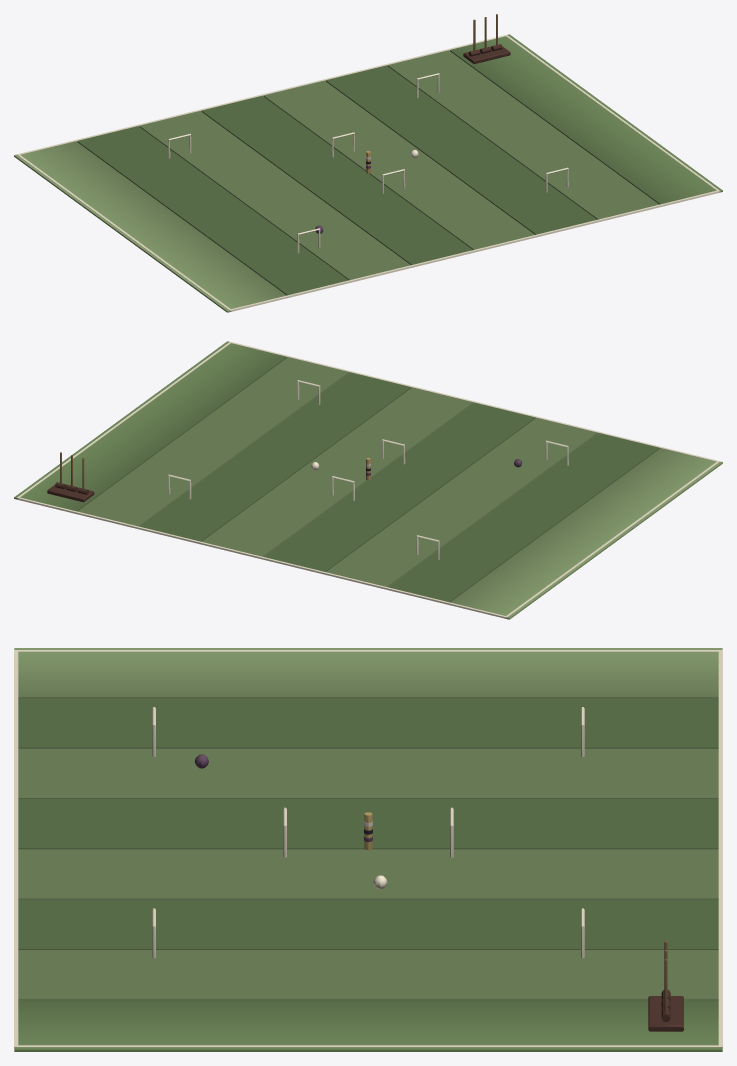
Rendered from lawn_croquet.glb.
3 renders of one model, top to bottom at view 1: azimuth 30°, elevation 25°; view 2: azimuth 150°, elevation 25°; view 3: azimuth 270°, elevation 25°, orthographic. The views are drawn at different scales.
Visible parts, largest first — view 1: lawn_croquet; view 2: lawn_croquet; view 3: lawn_croquet.
Boxes of the visible parts, x1,y1,x2,y2 form: lawn_croquet: (14,14,722,312); lawn_croquet: (14,341,722,619); lawn_croquet: (14,648,722,1051).
Size of the model in its own units: 7.98 by 0.63 by 5.95.
